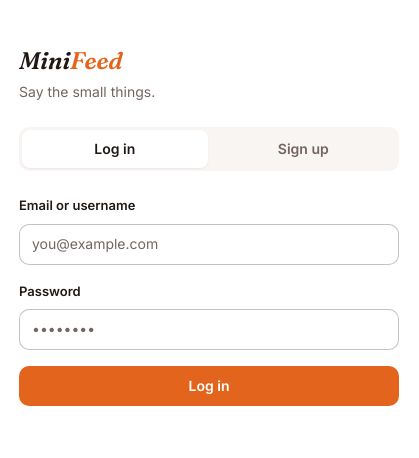
Test: AuthPage › shows a network error banner when the server is unreachable
Type "yan@example.com" into the field labelled "Email or username" at (209, 244), box [19, 224, 399, 265]
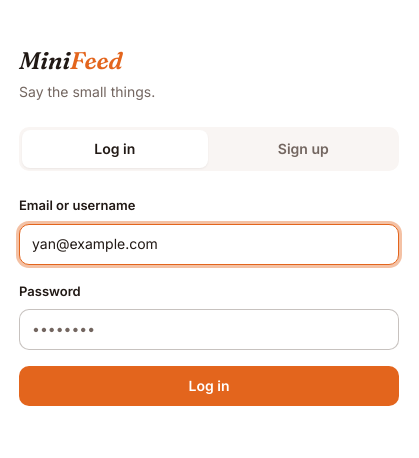
Type "secret123" into the password field labelled "Password" at (209, 330), box [19, 309, 399, 350]
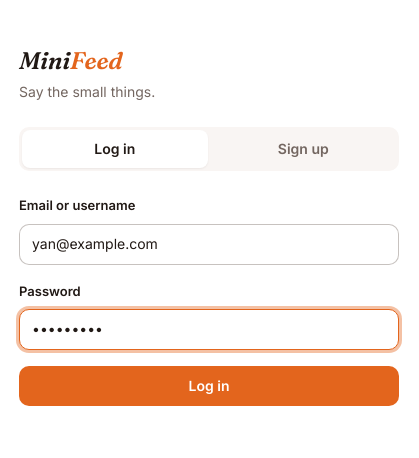
Click the button "Log in" at (209, 386), box [19, 366, 399, 406]
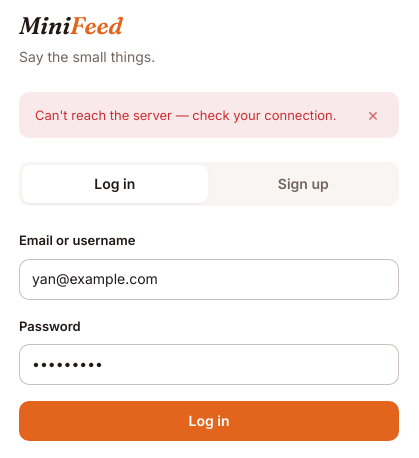
Expected: the message shows "Can't reach the server — check your connection.", [35, 107, 336, 123]
